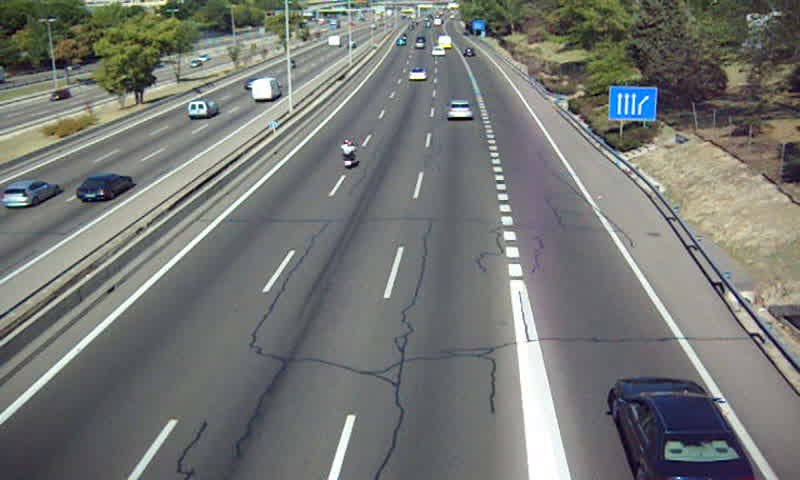car: (611, 377, 754, 480), (447, 98, 474, 120), (407, 66, 428, 81)
motorcycle: (339, 140, 357, 170)
